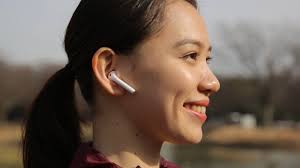earphone: (91, 47, 136, 96)
